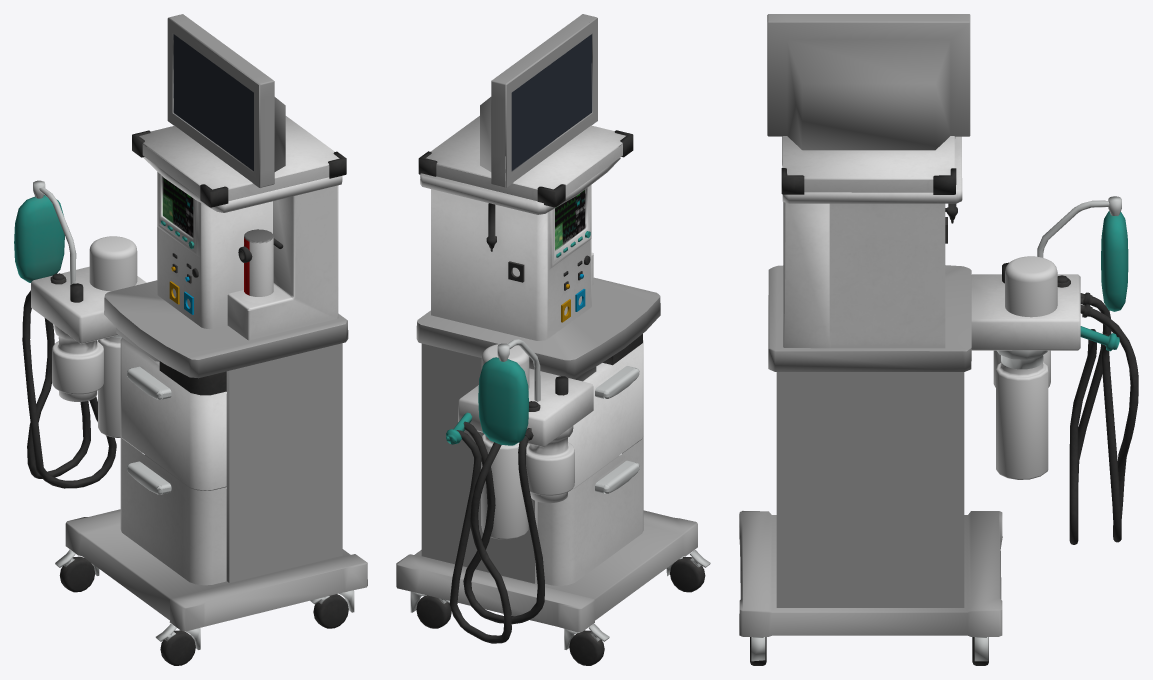
The model's file is anesthesia.fbx.
3 renders of one model, left to right at view 1: azimuth 30°, elevation 25°; view 2: azimuth 150°, elevation 25°; view 3: azimuth 270°, elevation 25°, orthographic. The views are drawn at different scales.
Parts seen in each view (by area): view 1: anesthesia; view 2: anesthesia; view 3: anesthesia.
Boxes of the visible parts, x1,y1,x2,y2 form: anesthesia: (14,14,367,665); anesthesia: (396,14,710,665); anesthesia: (739,14,1138,665).
Size of the model in its own units: 49.13 by 128 by 75.69.
